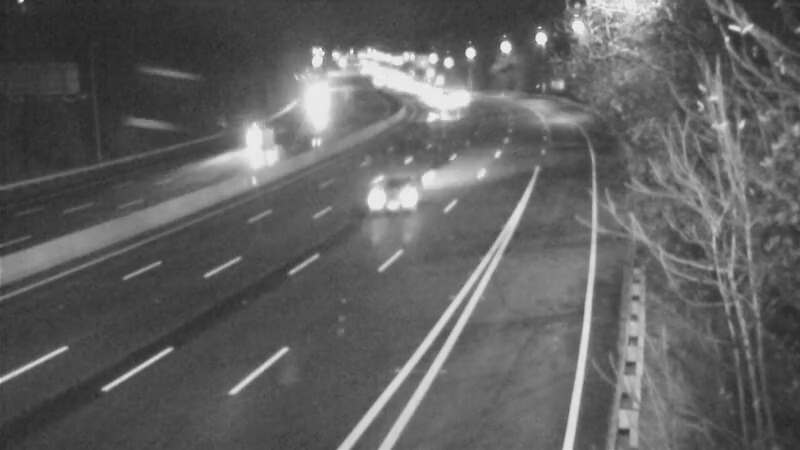vehicle: (350, 155, 430, 235), (436, 71, 486, 121), (414, 89, 464, 139), (222, 114, 272, 164), (297, 83, 347, 133)
